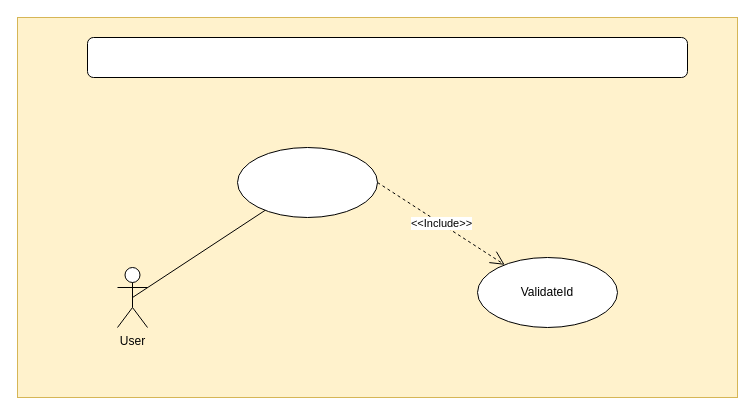
The diagram is 755 pixels wide and 415 high, and some of its shapes have lost their labels. Here are the shapes that lost their labels. From the top down, the box of each, then its label:
(86, 36, 688, 78): Find Cash Flow By Id Use Case Diagram
(236, 146, 378, 218): FindCashFlowById
